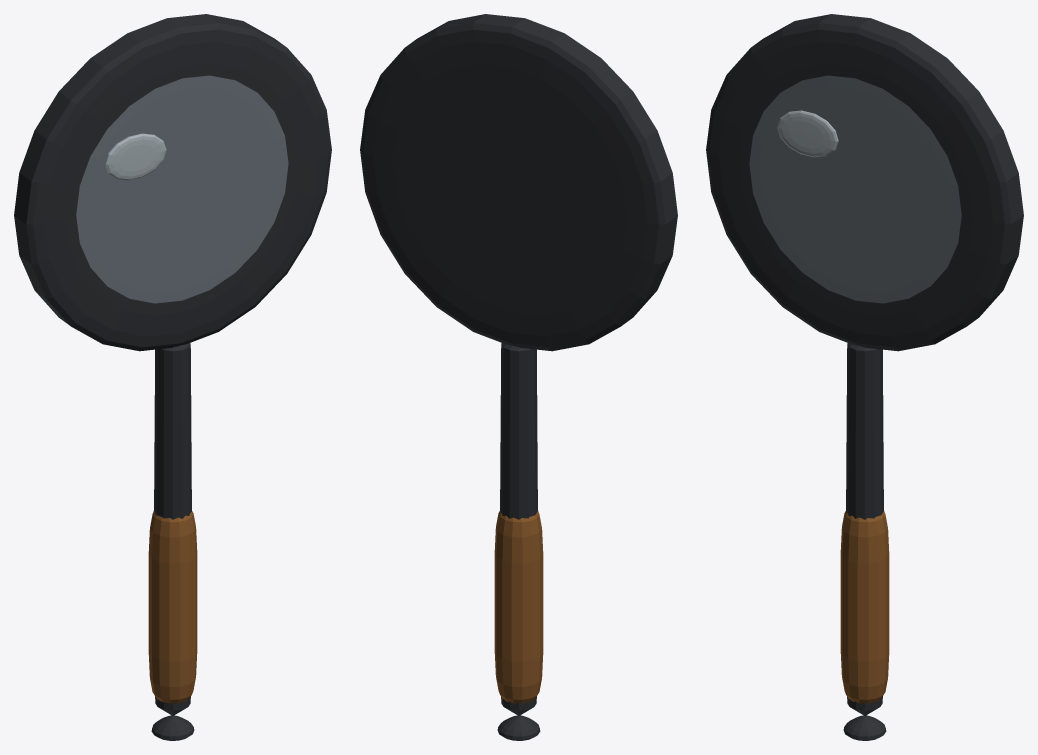
Rendered from m-pan.glb.
3 renders of one model, left to right at view 1: azimuth 30°, elevation 25°; view 2: azimuth 150°, elevation 25°; view 3: azimuth 330°, elevation 25°, orthographic.
Visible parts, largest first — view 1: melee; view 2: melee; view 3: melee.
Part boxes in pixels (left/top/right/bottom): melee: left=14, top=14, right=331, bottom=740; melee: left=360, top=14, right=677, bottom=740; melee: left=706, top=14, right=1023, bottom=740.
Size of the model in its own units: 1.3 by 2.89 by 0.1744.
